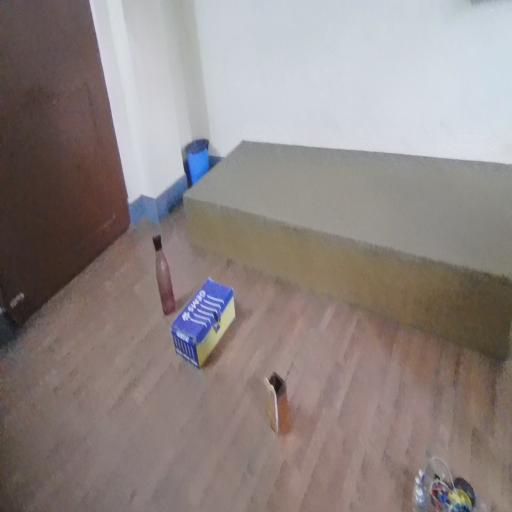Bottle: (148, 212, 190, 317)
